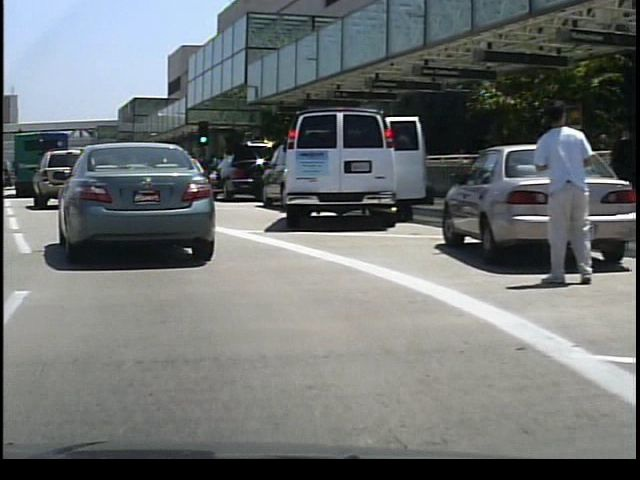person: (528, 96, 594, 289), (602, 116, 633, 232)
